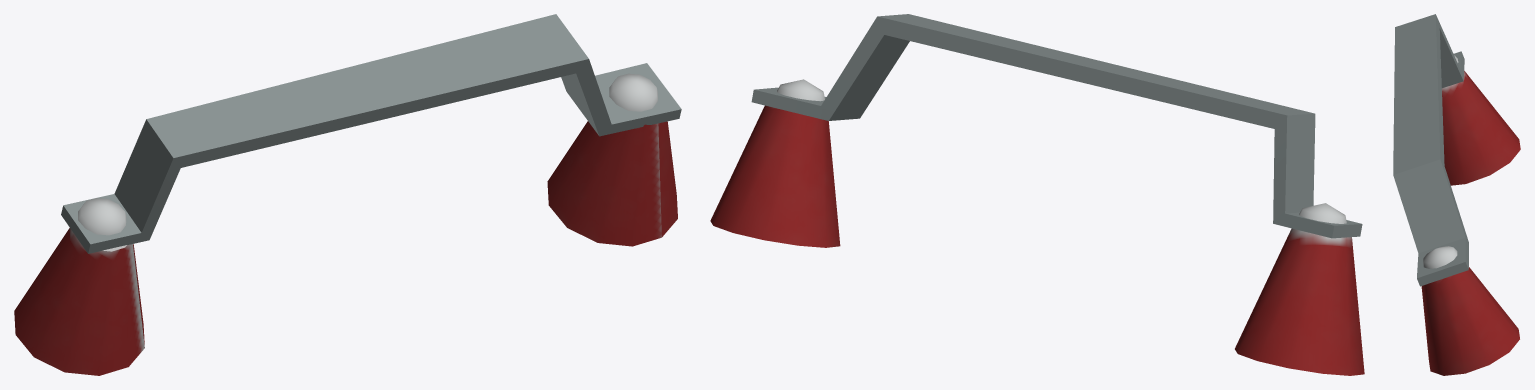
The model's file is Fence.glb.
3 renders of one model, left to right at view 1: azimuth 30°, elevation 25°; view 2: azimuth 150°, elevation 25°; view 3: azimuth 270°, elevation 25°, orthographic. The views are drawn at different scales.
Parts seen in each view (by area): view 1: FlippingFence_Base; view 2: FlippingFence_Base; view 3: FlippingFence_Base.
Boxes of the visible parts, left/top/right/bottom form: FlippingFence_Base: left=14, top=14, right=681, bottom=375; FlippingFence_Base: left=710, top=14, right=1364, bottom=375; FlippingFence_Base: left=1393, top=14, right=1520, bottom=375.
Size of the model in its own units: 0.1447 by 0.0519 by 0.0339.
1 material, 1 textured.
